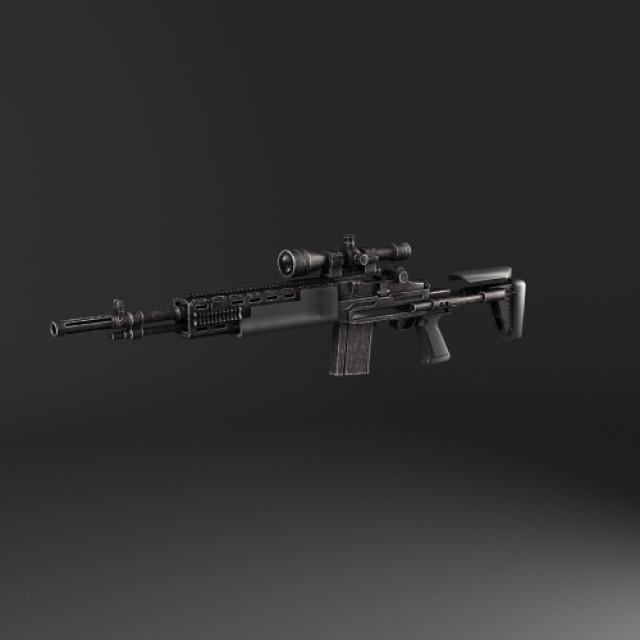Gun: (34, 215, 532, 404)
